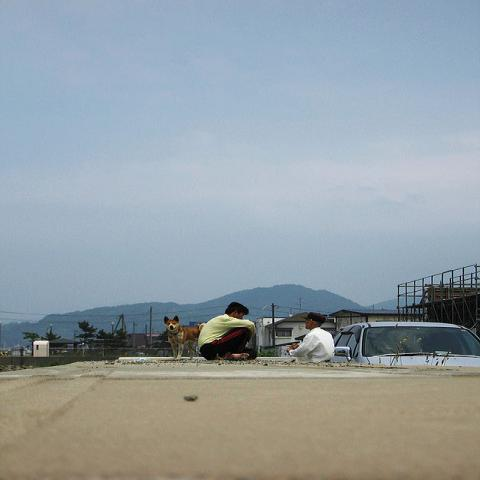car: (329, 321, 479, 368)
